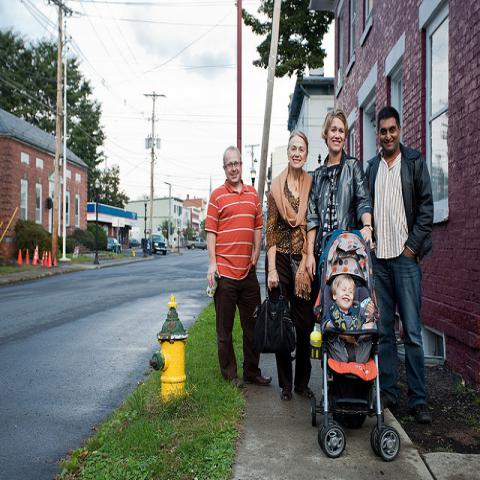car: (106, 238, 122, 253), (130, 238, 142, 249)
truck: (140, 233, 168, 255), (186, 238, 207, 250)
